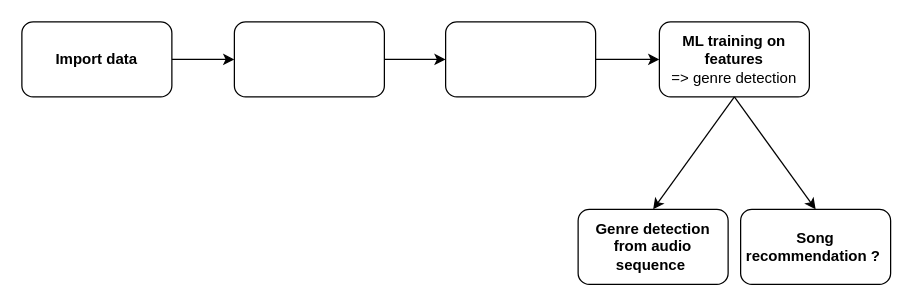
Some shapes in this 913 by 306 pixel diagram are drawn without their labels. The shapes that lost their labels are listed below. From the top down, each one's centre as x and y in pixels, then its label:
At pixel 308 59: "Metadata visualization".
At pixel 520 59: "Features Extraction (timbre, harmony, rhythm)".
